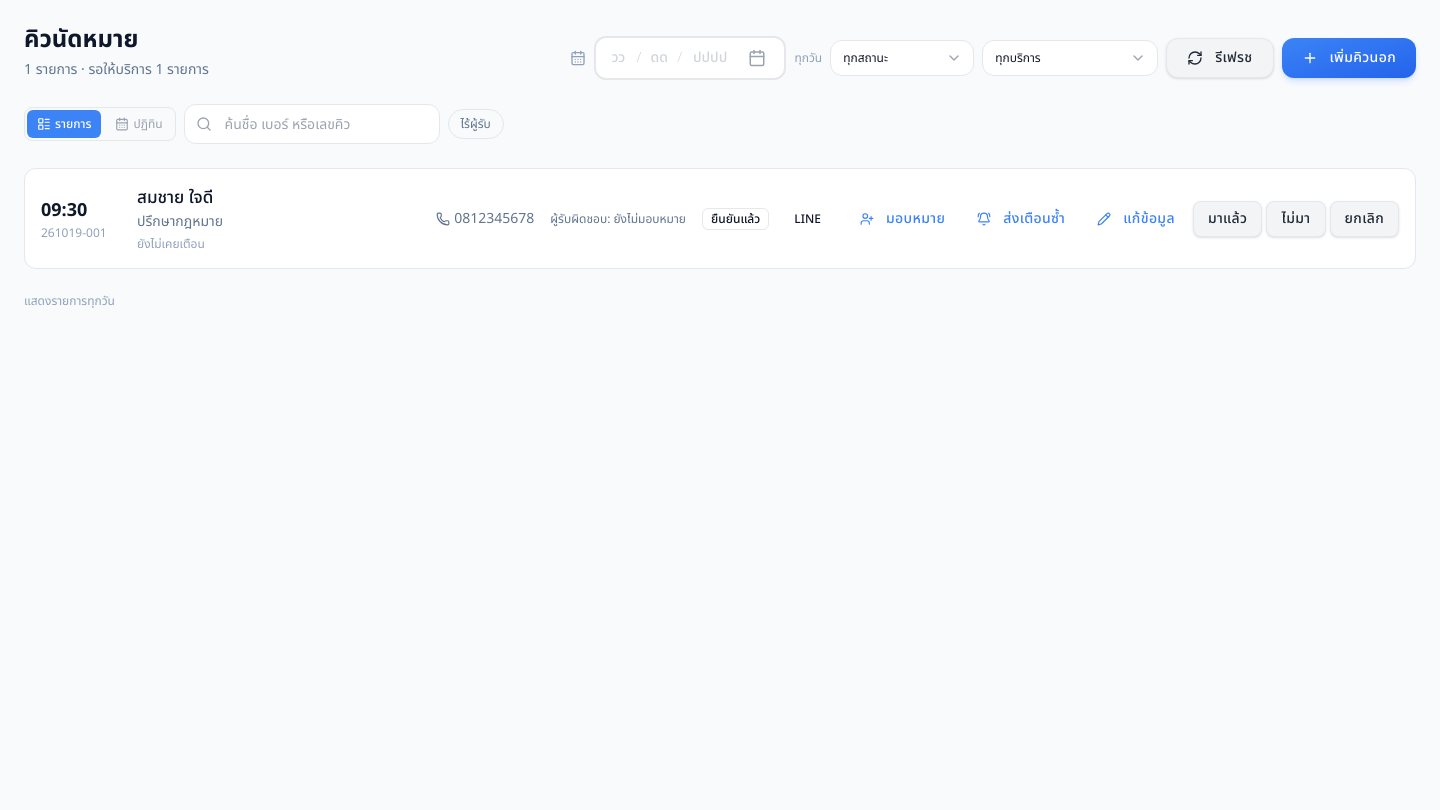
Test: staff assignment › assigns through the staff modal and updates the row
This screenshot has width=1440, height=810.
expect the list is shown: met, box [24, 168, 1416, 269]
Click the button with aria-label "มอบหมายคิว 261019-001" at x=903, y=219, box [846, 201, 959, 237]
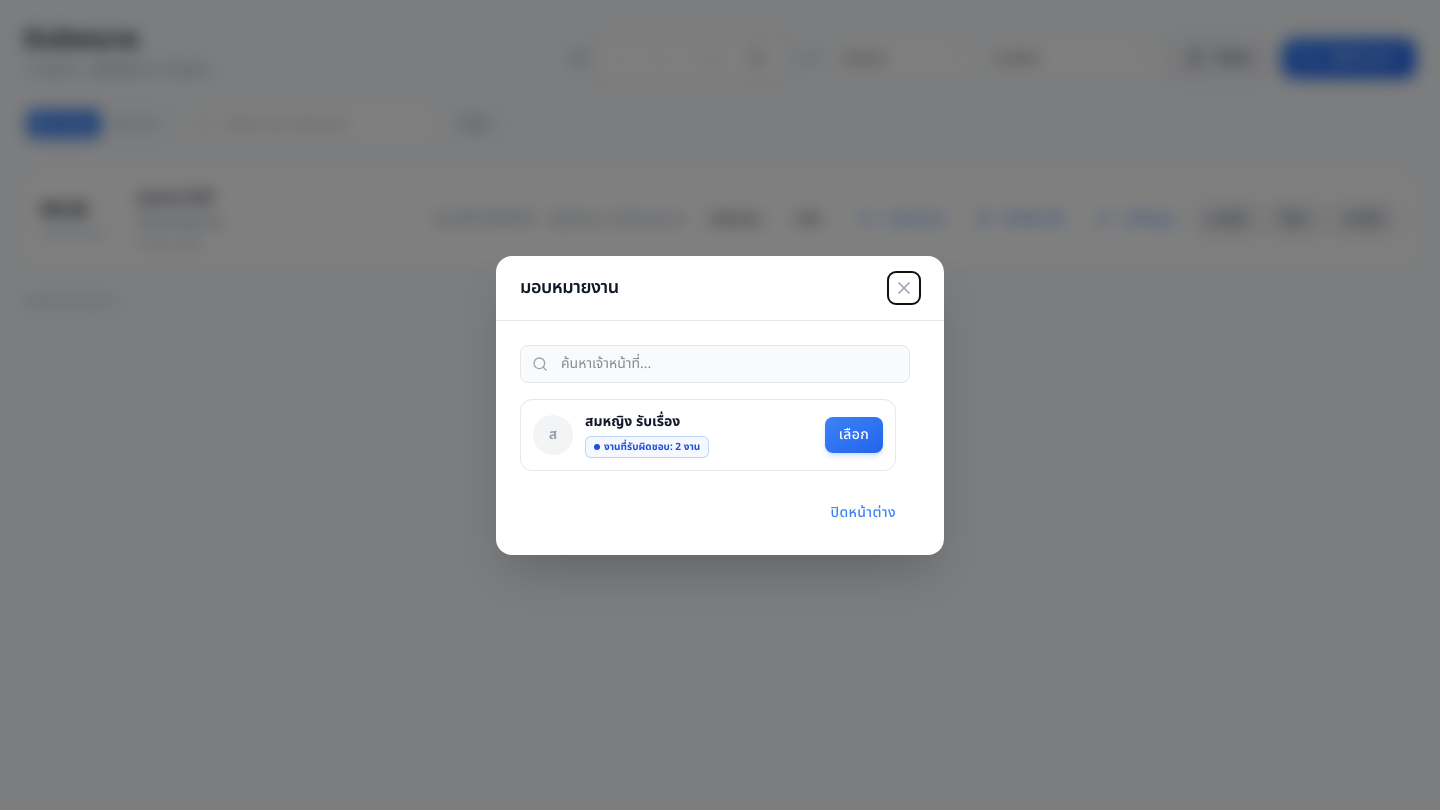
expect the text "สมหญิง รับเรื่อง" is shown: met, box [585, 410, 680, 432]
Click the button "เลือก" at x=854, y=434, box [825, 416, 883, 452]
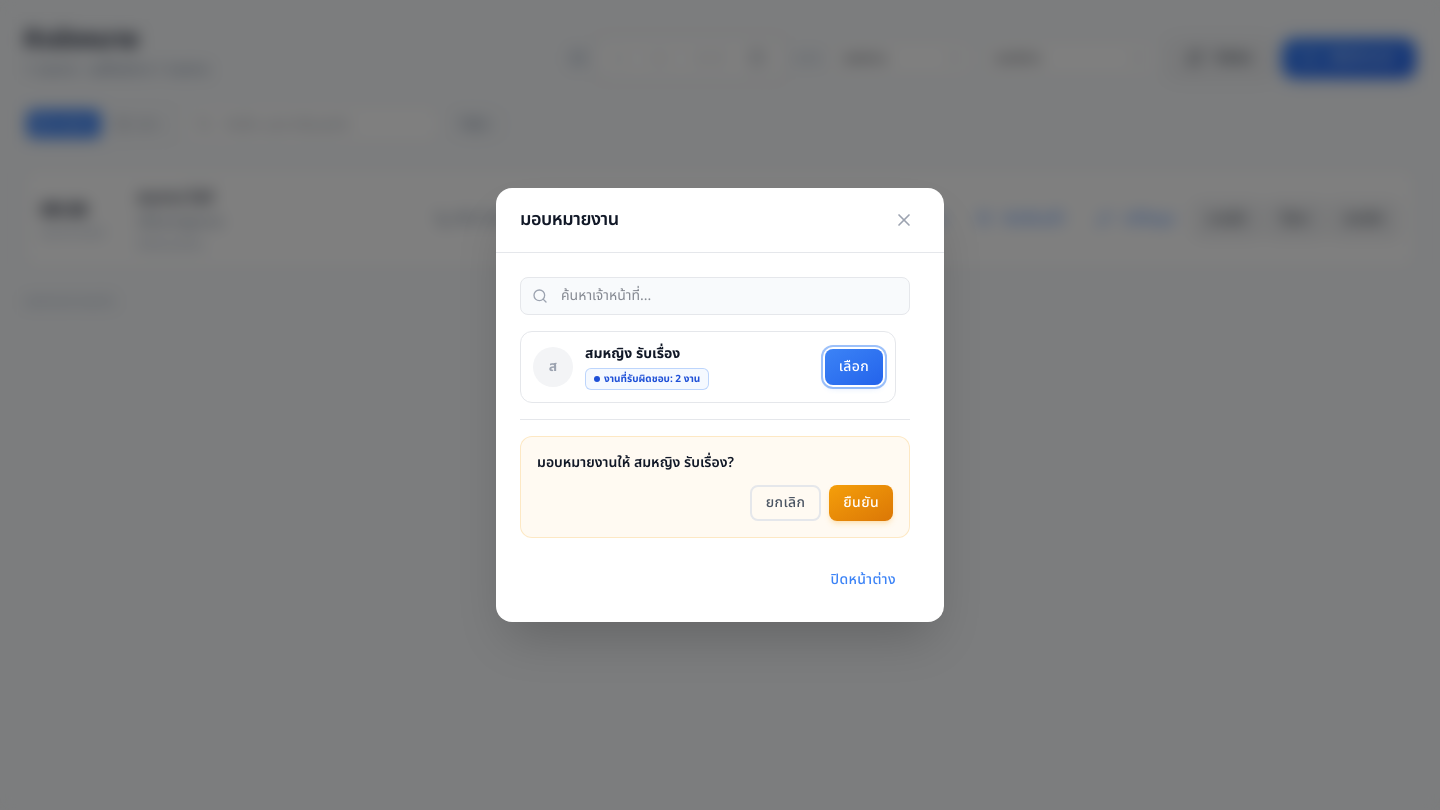
Click the button "ยืนยัน" at x=861, y=503, box [829, 485, 893, 521]
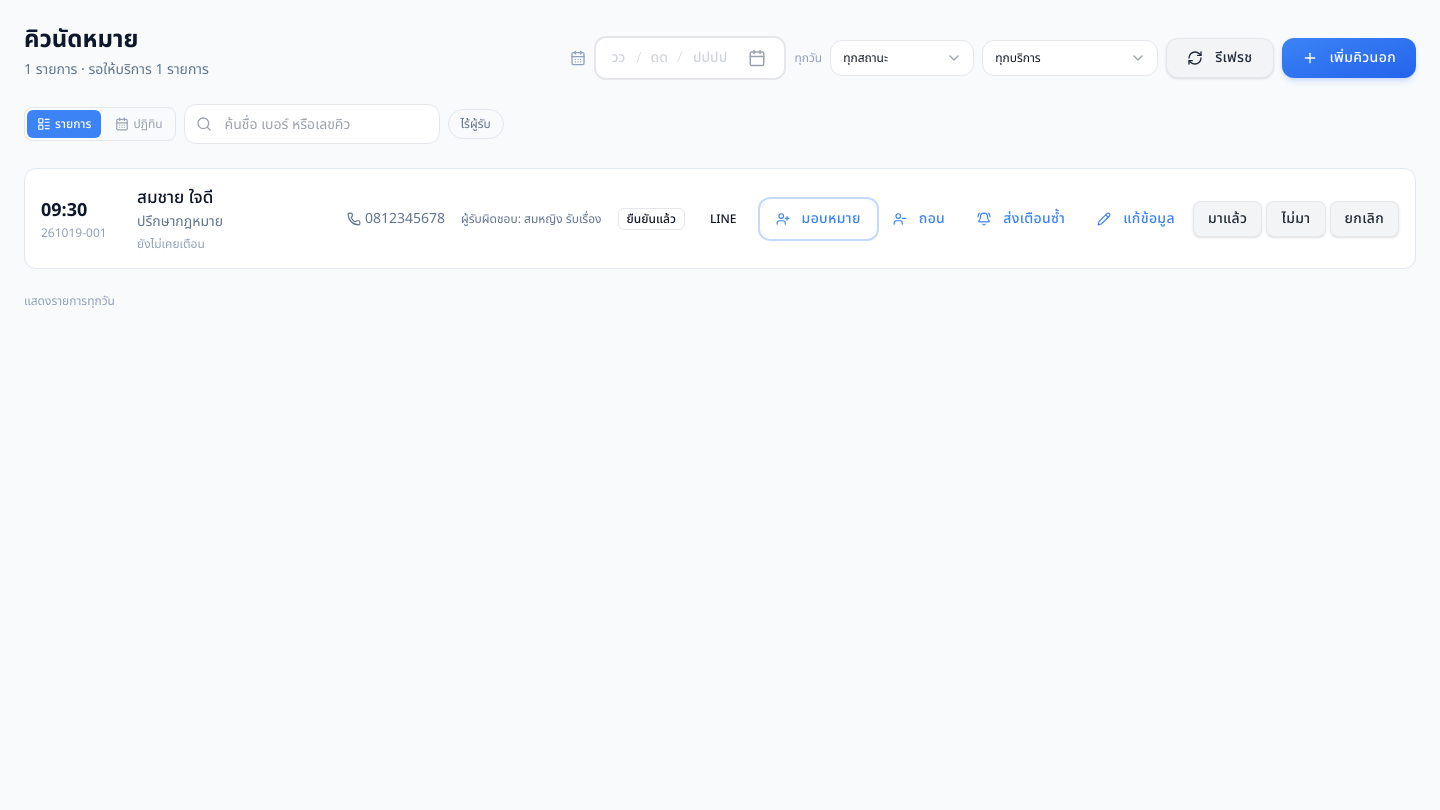
expect the text "ผู้รับผิดชอบ: สมหญิง รับเรื่อง" is shown: met, box [461, 211, 602, 227]
